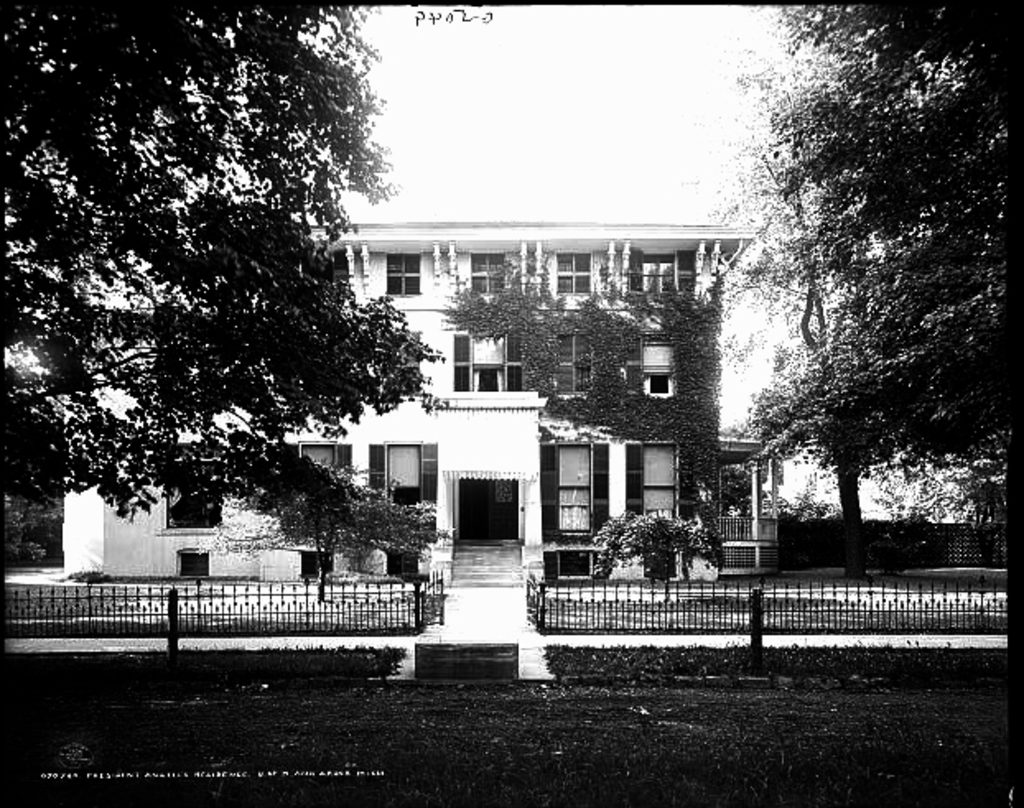Tree: (0, 13, 451, 534), (734, 4, 1007, 478), (730, 36, 885, 584)
